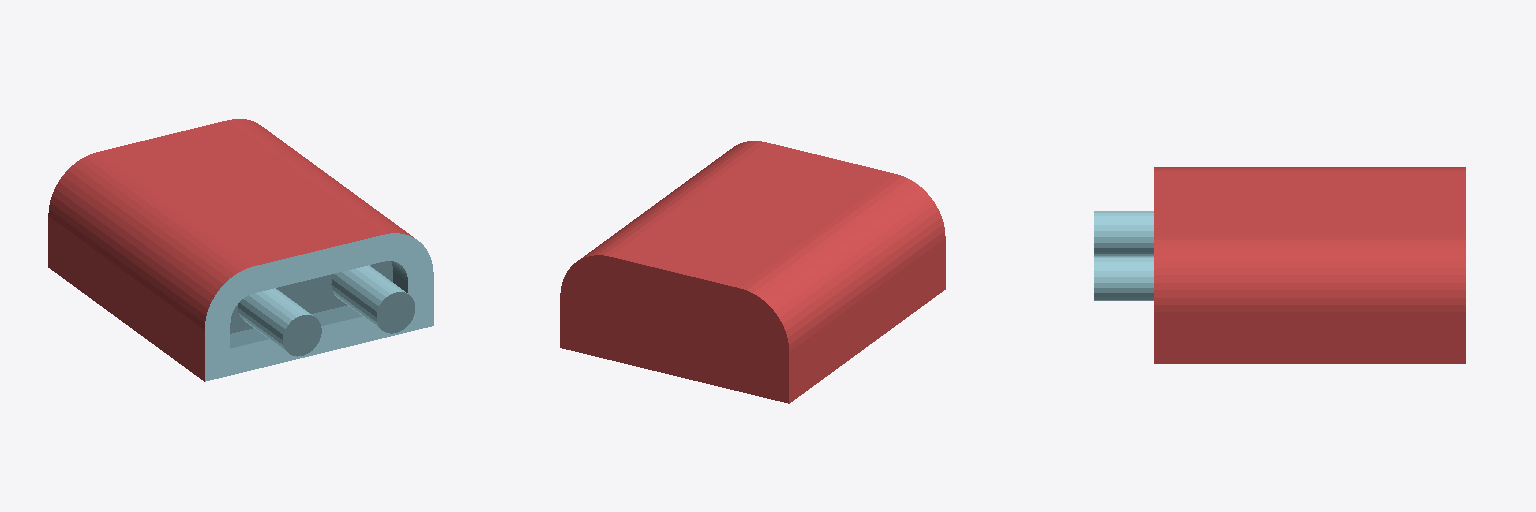
File: TurretHead.obj
The picture shows the model from 3 angles: view 1: azimuth 30°, elevation 25°; view 2: azimuth 150°, elevation 25°; view 3: azimuth 270°, elevation 25°; orthographic projection.
Parts seen in each view (by area): view 1: weapon_blaster.001; view 2: weapon_blaster.001; view 3: weapon_blaster.001.
Part boxes in pixels (x1,y1,x2,y2): weapon_blaster.001: (48, 119, 433, 381); weapon_blaster.001: (560, 141, 945, 403); weapon_blaster.001: (1094, 167, 1465, 363).
Size of the model in its own units: 0.44 by 0.19 by 0.62.